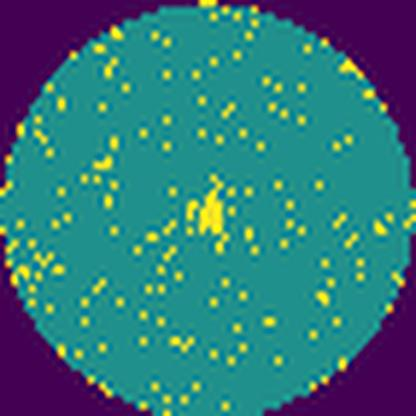Center: (198, 187, 226, 236)
